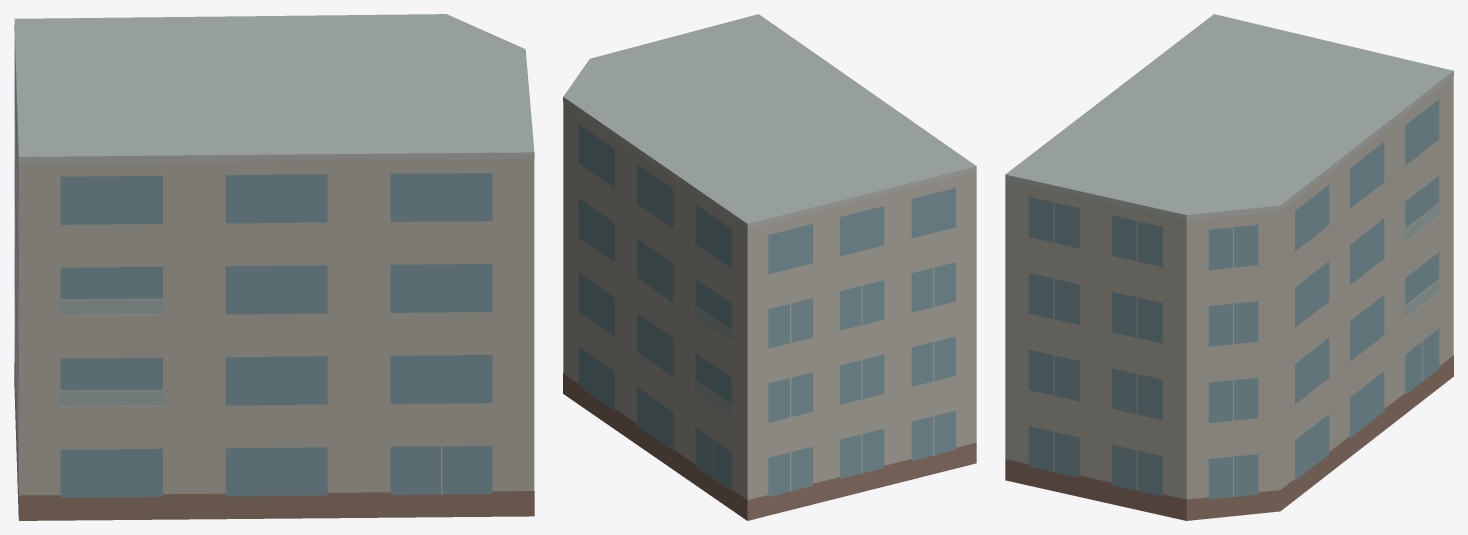
File: survey-upis-32914067.glb
The picture shows the model from 3 angles, left to right: view 1: azimuth 30°, elevation 25°; view 2: azimuth 150°, elevation 25°; view 3: azimuth 270°, elevation 25°; orthographic projection. The views are drawn at different scales.
Parts seen in each view (by area): view 1: survey-upis-32914067.tmp; view 2: survey-upis-32914067.tmp; view 3: survey-upis-32914067.tmp.
Part boxes in pixels (<box>): survey-upis-32914067.tmp: <box>14,14,534,520</box>; survey-upis-32914067.tmp: <box>563,14,976,520</box>; survey-upis-32914067.tmp: <box>1005,14,1453,520</box>.
Bounding box in the file's own units: 19.15 × 13.57 × 18.05.
